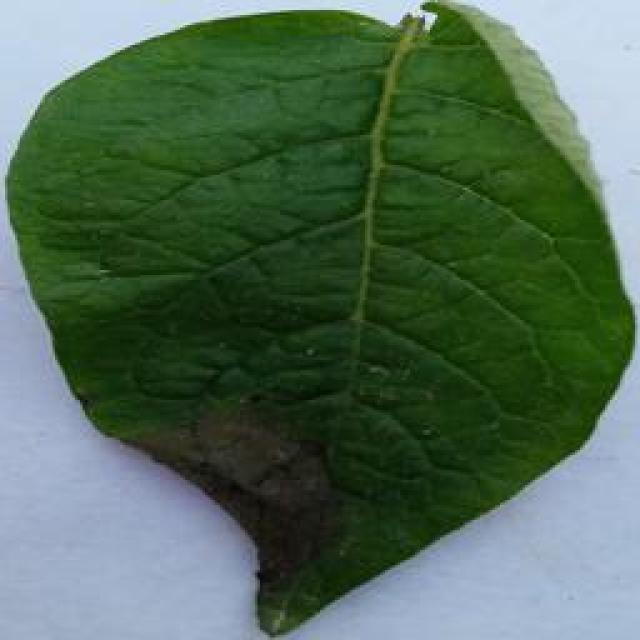Potato_Late_Blight: (6, 6, 625, 636)
